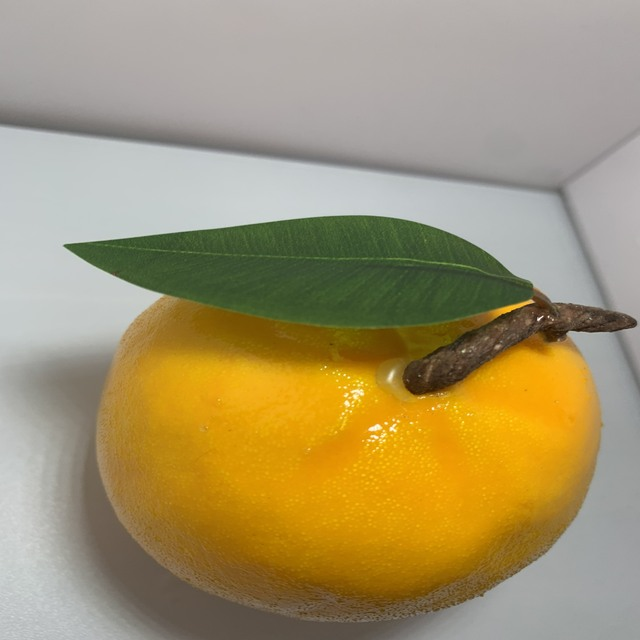Cam vang: (86, 210, 614, 634)
